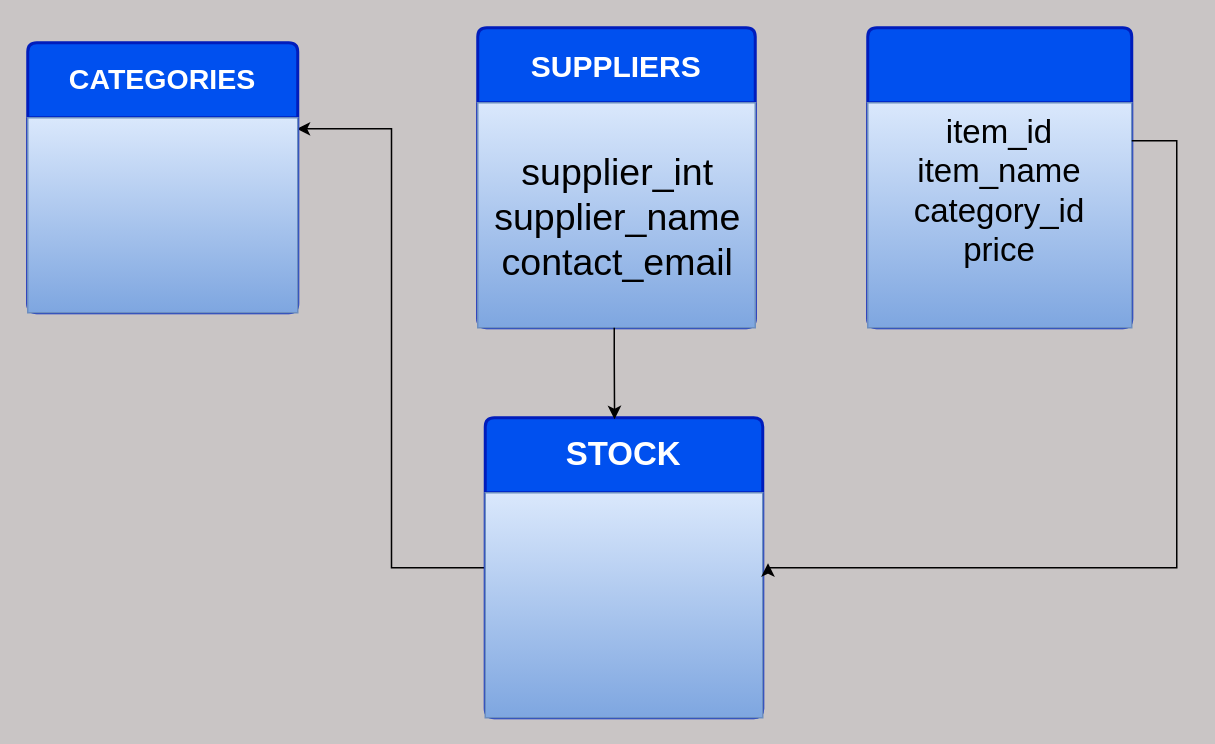
Some shapes in this 1215 by 744 pixel diagram are drawn without their labels. Each missing label, with the box of its shape:
category_id category_name: (26, 116, 298, 313)
ITEMS: (866, 26, 1132, 328)
stock_id item_id supplier_id quantity: (484, 491, 763, 718)
